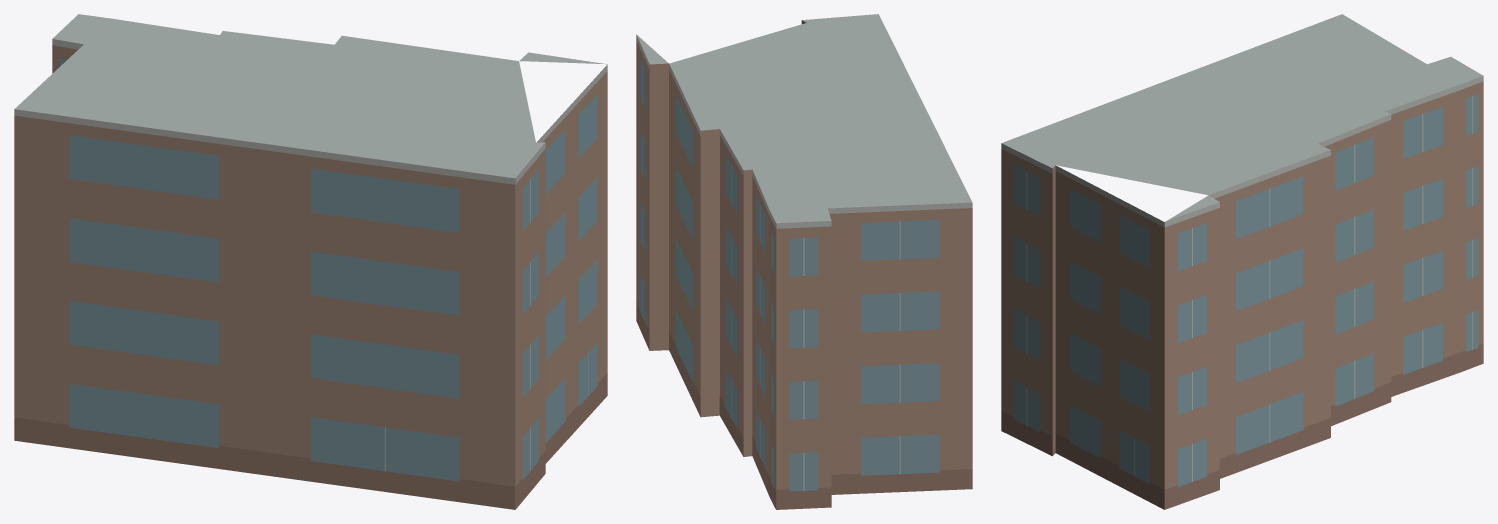
The model's file is survey-upis-32770172.glb.
The picture shows the model from 3 angles, left to right: view 1: azimuth 30°, elevation 25°; view 2: azimuth 150°, elevation 25°; view 3: azimuth 270°, elevation 25°; orthographic projection. The views are drawn at different scales.
Parts seen in each view (by area): view 1: survey-upis-32770172.tmp; view 2: survey-upis-32770172.tmp; view 3: survey-upis-32770172.tmp.
Part boxes in pixels (x1,y1,x2,y2): survey-upis-32770172.tmp: (14,14,607,509); survey-upis-32770172.tmp: (636,14,972,509); survey-upis-32770172.tmp: (1001,14,1483,509).
Bounding box in the file's own units: 19.78 × 12.75 × 19.37.
